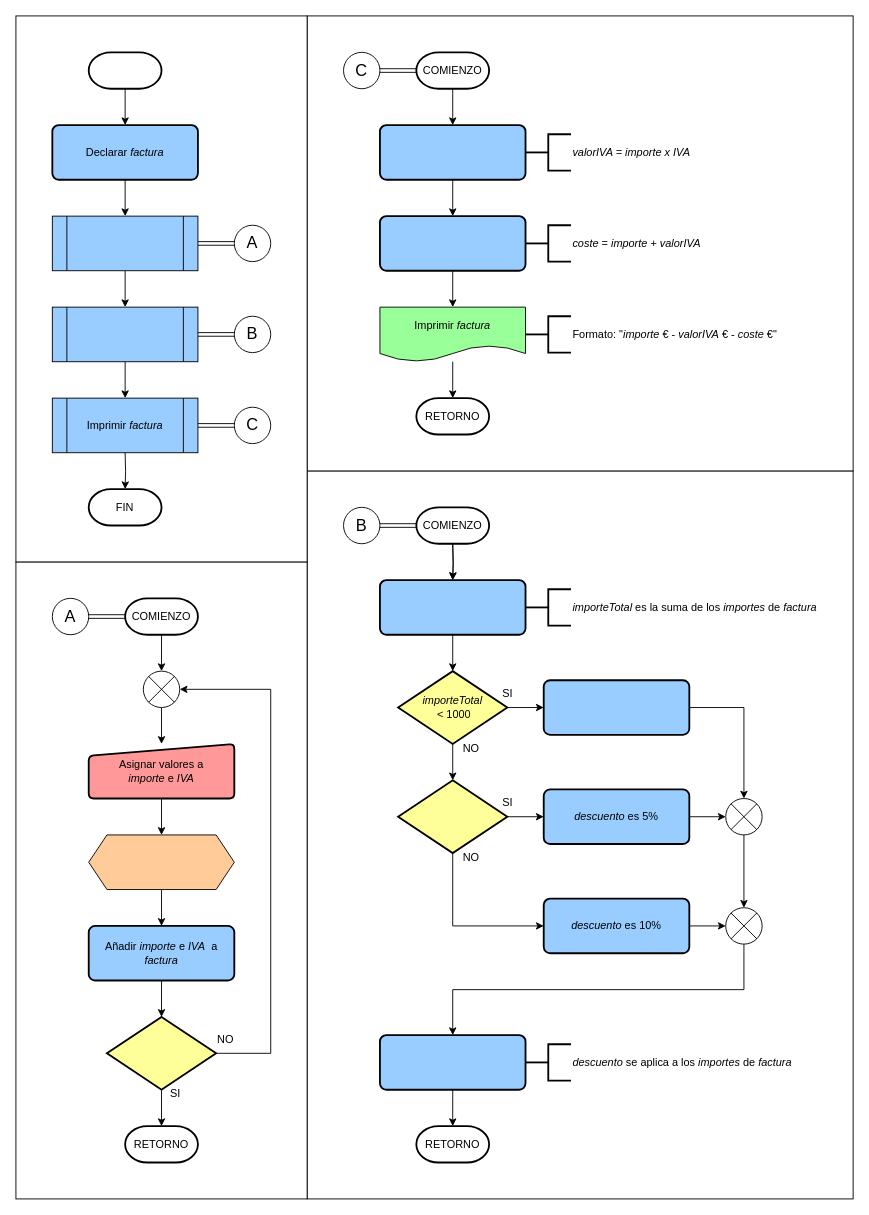
This 869x1215 diagram has some shape labels left out. The box of each missing label's shape, as (x1, y1, x2, y2) in pixels:
Aplicar descuento a factura: (379, 1034, 526, 1090)
Calcular costes de factura: (379, 215, 526, 271)
Calcular descuento aplicable a factura: (51, 306, 198, 362)
Calcular importeTotal de factura: (379, 579, 526, 635)
Calcular valoresIVA de factura: (379, 124, 526, 180)
descuento es 0%: (542, 679, 690, 735)
importe = 0: (106, 1016, 217, 1090)
importeTotal < 10000: (397, 779, 508, 854)
INICIO: (87, 51, 162, 89)
IVA es 4%, 7% o 16%: (88, 834, 234, 890)
Leer datos de factura del usuario: (51, 215, 198, 271)
